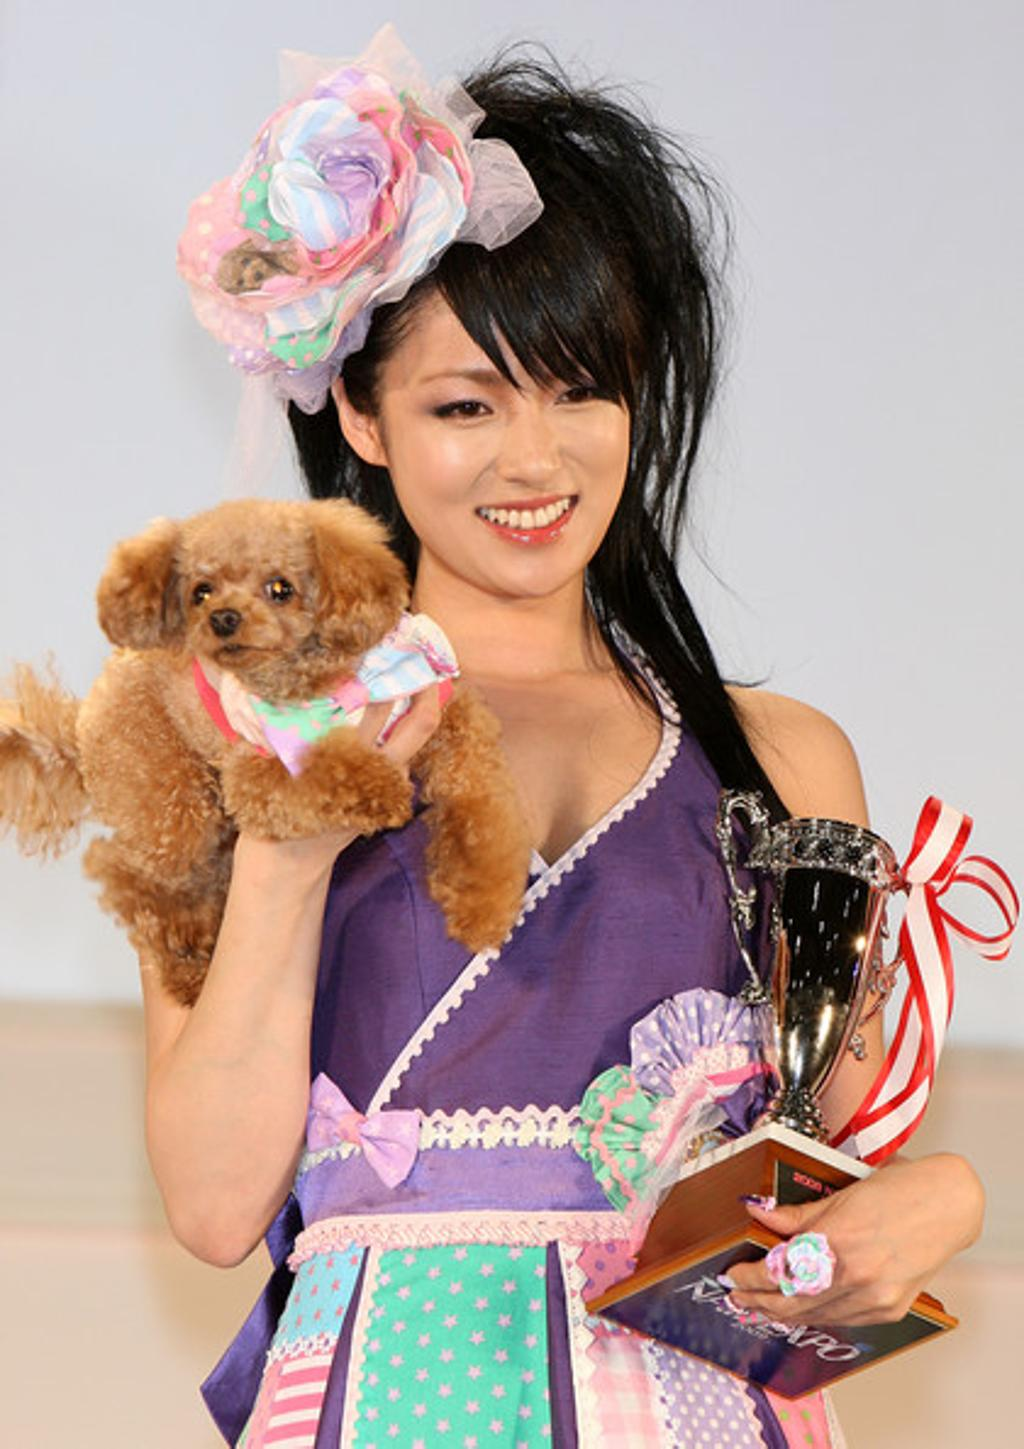face: (382, 218, 645, 594)
